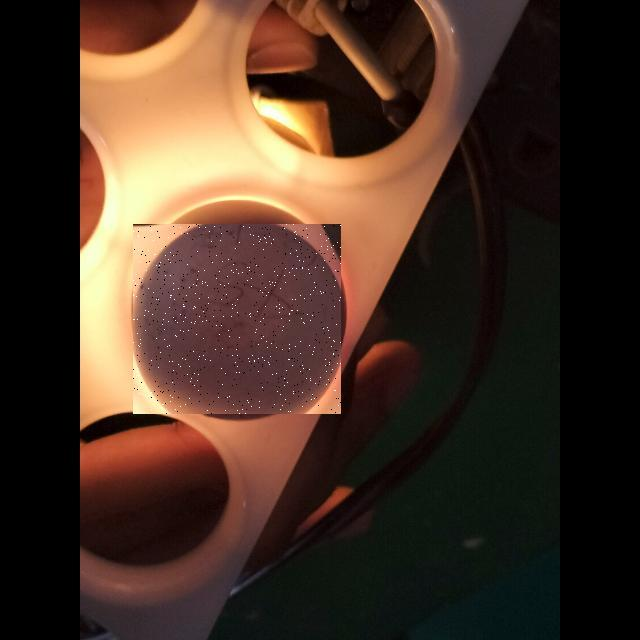Fertile: (133, 224, 341, 414)
